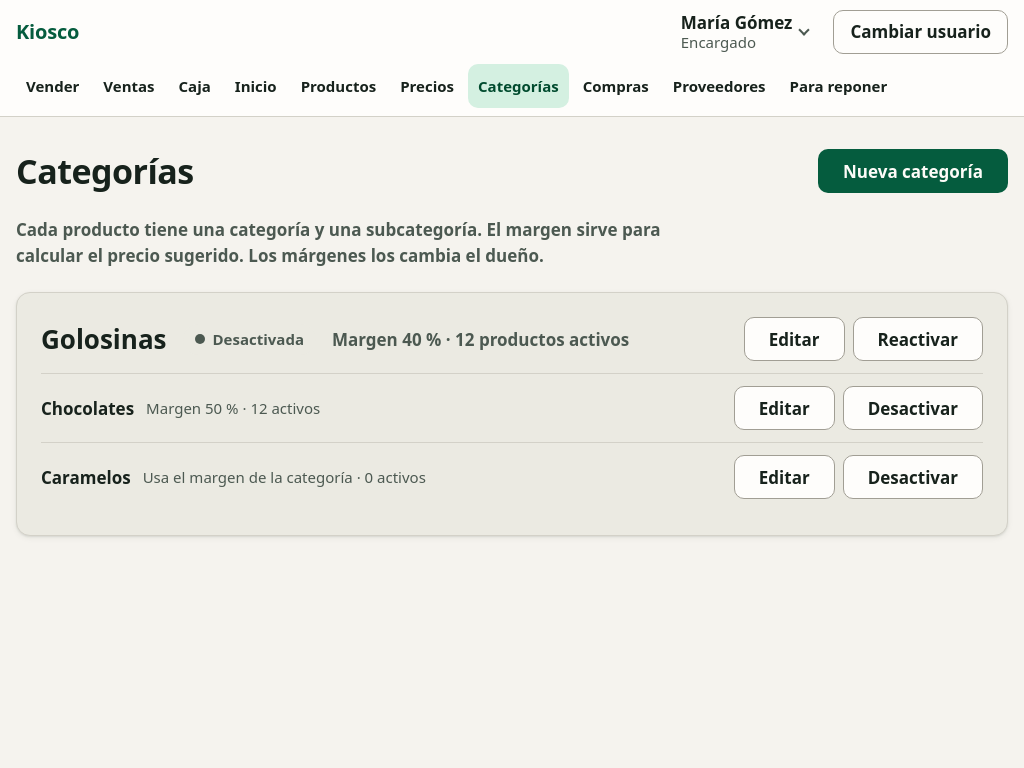
Test case: Categorías › reactiva una categoría desactivada (H-26)
Step 1. Click the button with aria-label "Reactivar la categoría Golosinas" → (918, 339), box 852,317 -> 983,361
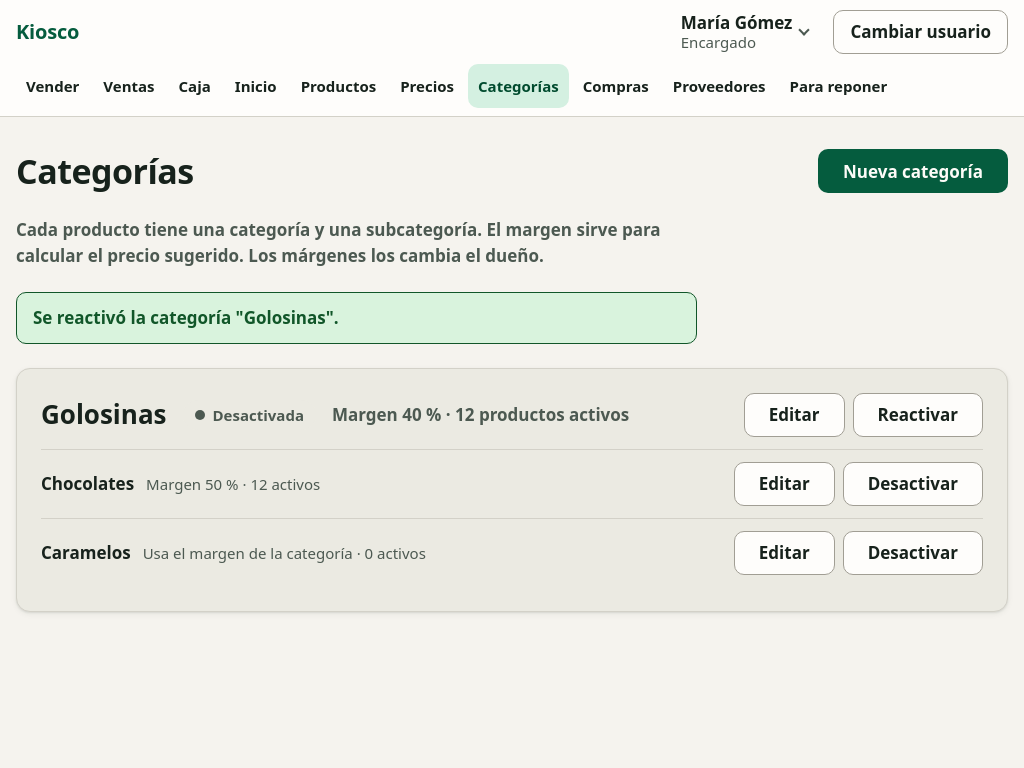
Result: the text "Se reactivó la categoría \"Golosinas\"." is shown at 16,292 -> 697,344
